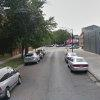Car: (61, 49, 89, 78)
